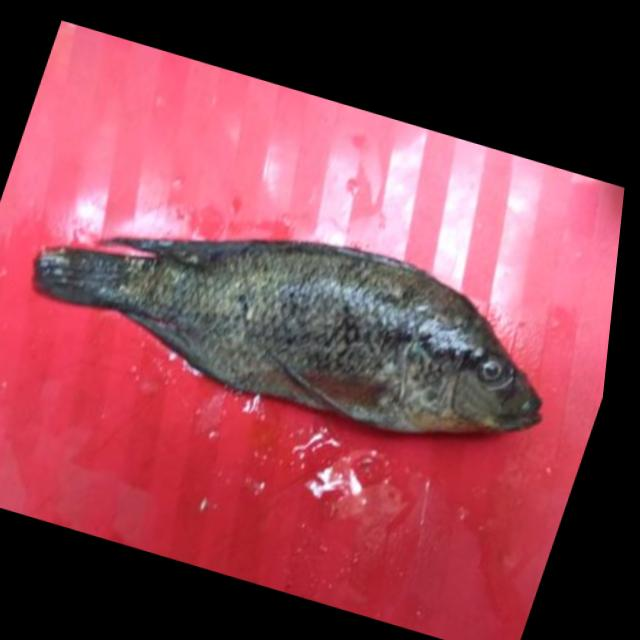Tilapia: (1, 158, 589, 476)
